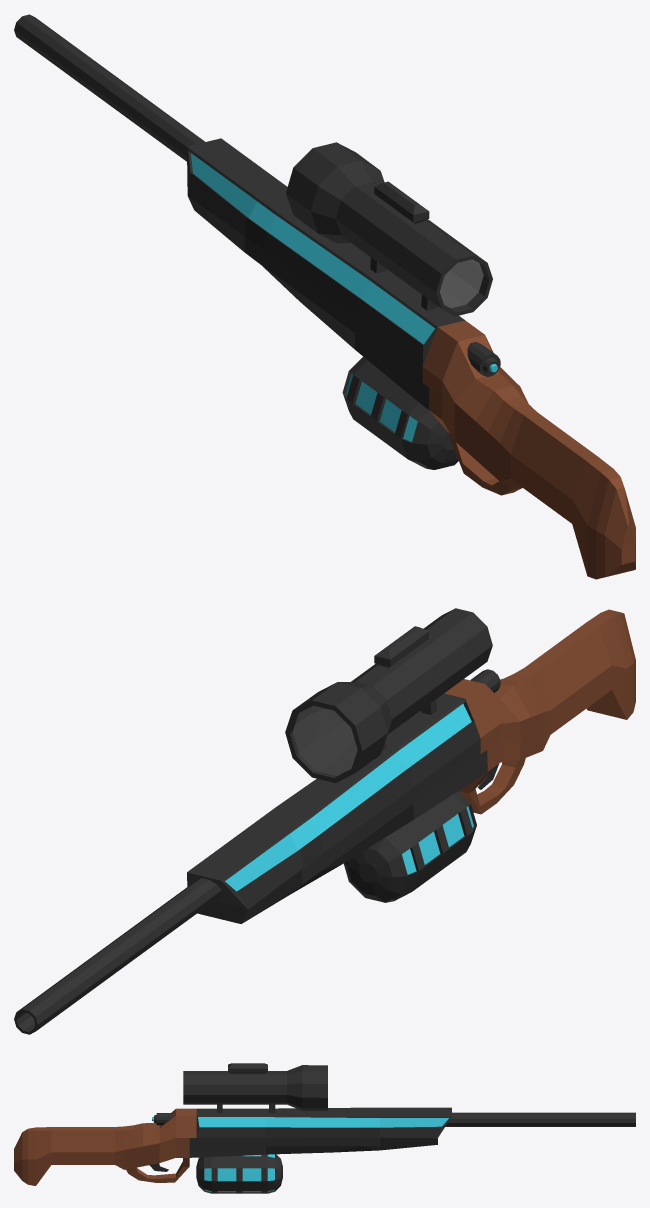
The model's file is Sniper.fbx.
3 renders of one model, top to bottom at view 1: azimuth 30°, elevation 25°; view 2: azimuth 150°, elevation 25°; view 3: azimuth 270°, elevation 25°, orthographic. The views are drawn at different scales.
Visible parts, largest first — view 1: Bidy, Battery, Barrel; view 2: Bidy, Battery; view 3: Bidy, Battery.
Boxes of the visible parts, bbox=[...] form: Bidy: bbox=[14, 14, 635, 579]; Battery: bbox=[342, 356, 458, 469]; Barrel: bbox=[467, 342, 500, 376]; Bidy: bbox=[14, 608, 635, 1034]; Battery: bbox=[343, 791, 476, 902]; Bidy: bbox=[14, 1063, 635, 1185]; Battery: bbox=[196, 1154, 282, 1193].
Size of the model in its own units: 11.89 by 160 by 36.04.
